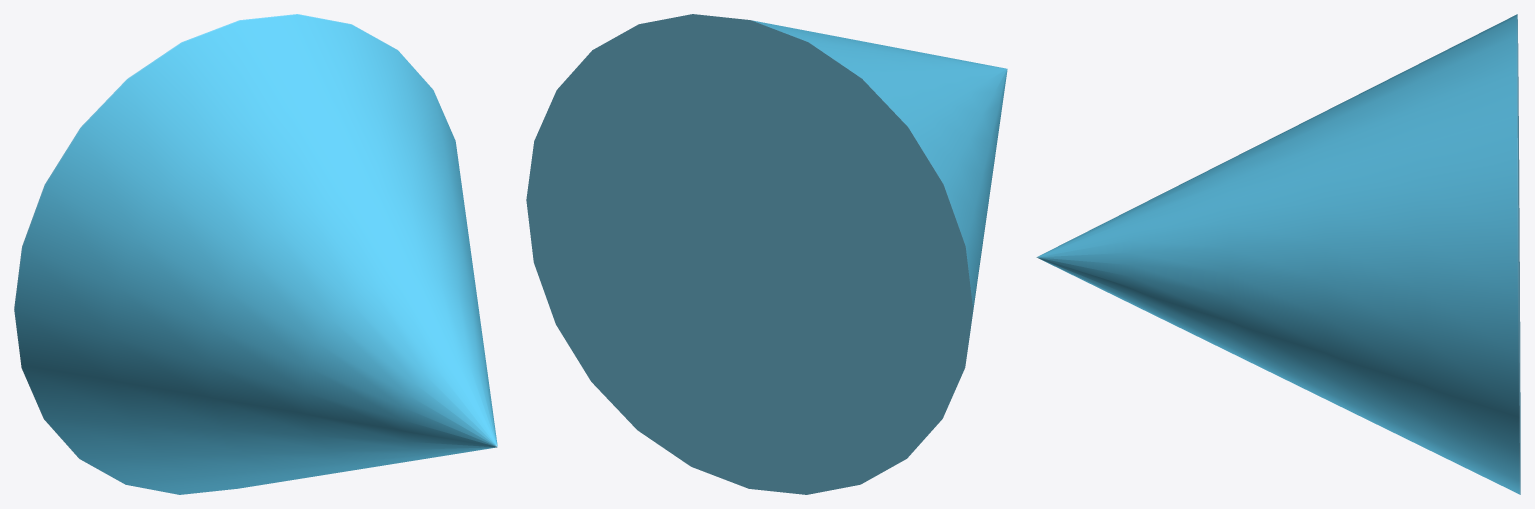
The model's file is bullet2.FBX.
3 renders of one model, left to right at view 1: azimuth 30°, elevation 25°; view 2: azimuth 150°, elevation 25°; view 3: azimuth 270°, elevation 25°, orthographic. The views are drawn at different scales.
Parts seen in each view (by area): view 1: Cone001; view 2: Cone001; view 3: Cone001.
Part boxes in pixels (x1,y1,x2,y2): Cone001: (14, 14, 497, 494); Cone001: (526, 14, 1007, 494); Cone001: (1036, 14, 1520, 494).
Size of the model in its own units: 30 by 30.1 by 30.
Materials: 1 (1 with a texture image).
